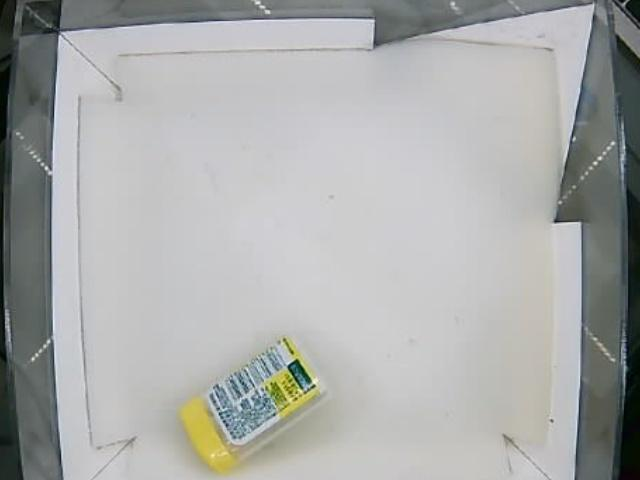Bottle: (180, 329, 331, 480)
